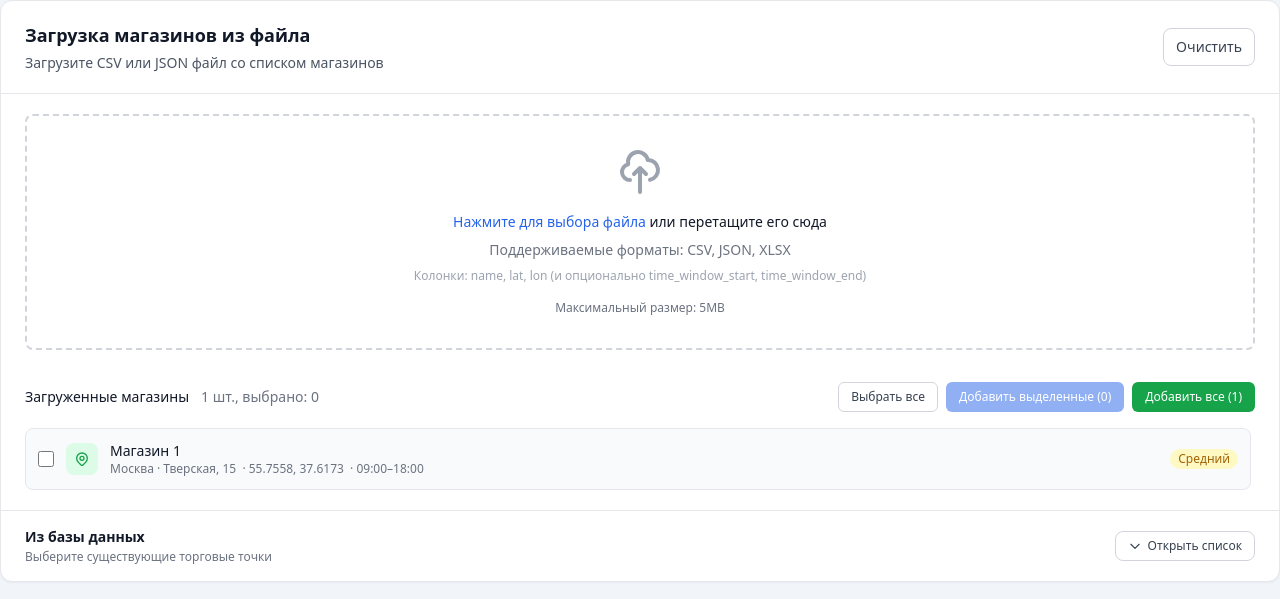
it: FileUpload.vue › clears uploaded data when clear button is clicked
Click the button "Очистить".
click(1209, 47)  # box [1163, 28, 1255, 66]
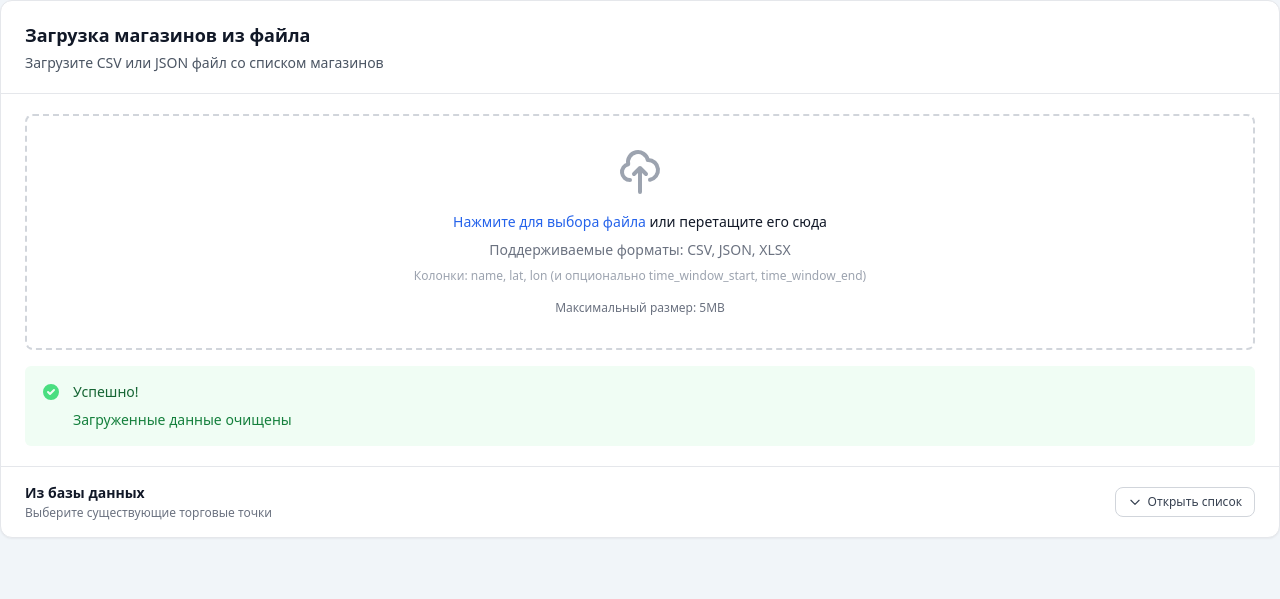
Expected: the text "Загруженные данные очищены" is shown, [73, 410, 292, 430]
